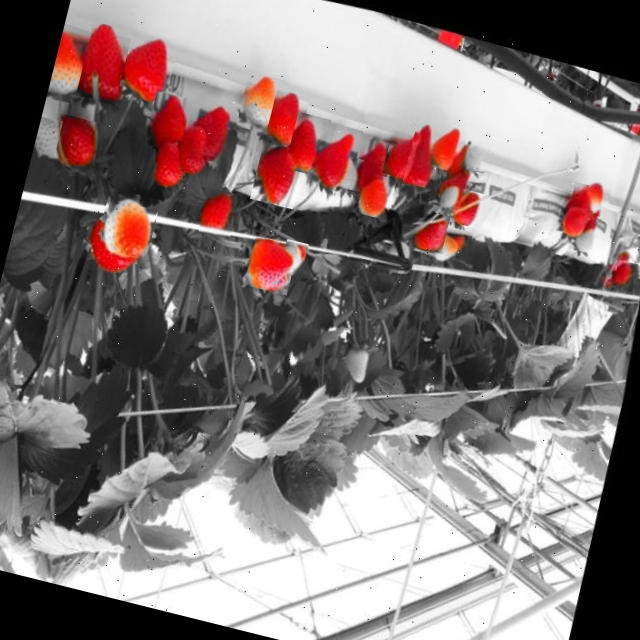ripe: (75, 21, 138, 106), (117, 24, 181, 104), (250, 137, 308, 209), (307, 121, 363, 193), (190, 96, 242, 164), (244, 236, 299, 294), (284, 111, 331, 176), (381, 122, 431, 182), (144, 91, 192, 153), (52, 114, 103, 172), (264, 89, 310, 150), (174, 118, 220, 177), (402, 122, 443, 188), (351, 136, 395, 192), (150, 136, 191, 190), (198, 188, 240, 238), (428, 122, 468, 172), (412, 209, 450, 253), (453, 188, 488, 228), (566, 182, 598, 222), (562, 204, 593, 238), (614, 259, 638, 285), (617, 244, 635, 266)
unripe: (94, 187, 161, 266), (46, 24, 99, 106), (98, 190, 159, 260), (236, 71, 286, 135), (355, 171, 397, 220), (432, 225, 473, 273), (339, 341, 379, 388), (30, 116, 66, 164), (582, 178, 613, 218), (572, 218, 604, 255), (278, 238, 308, 276), (335, 154, 364, 192), (465, 138, 491, 174), (438, 179, 465, 210)
